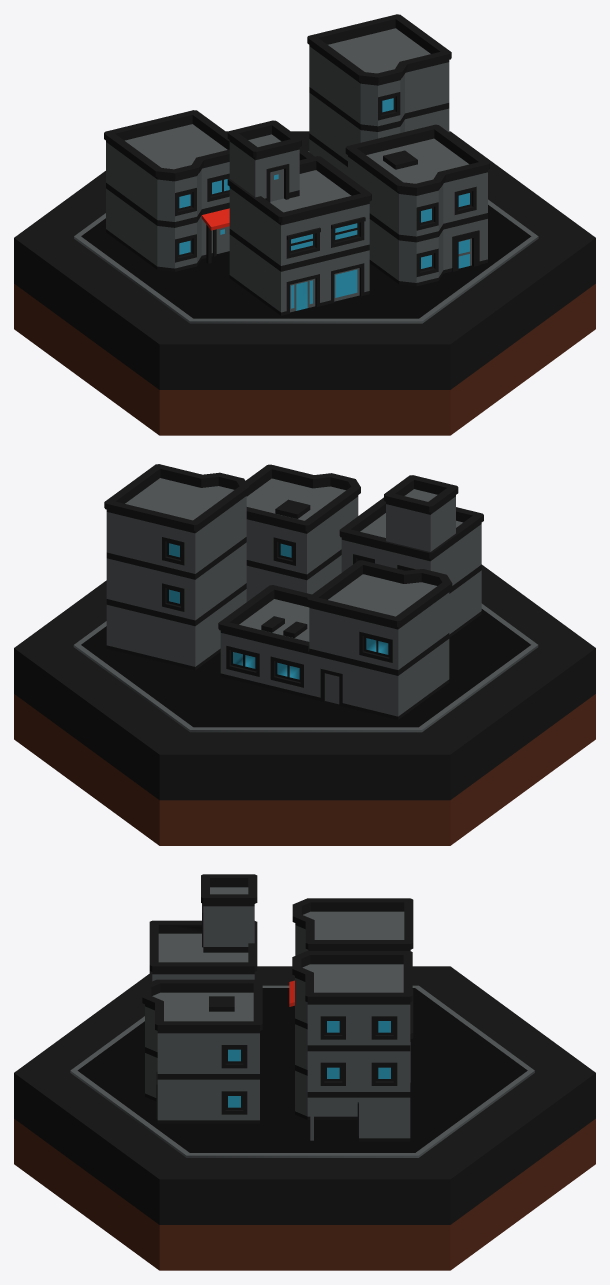
The model's file is SM_Buildings.FBX.
The picture shows the model from 3 angles, top to bottom: view 1: azimuth 30°, elevation 25°; view 2: azimuth 150°, elevation 25°; view 3: azimuth 270°, elevation 25°; orthographic projection.
Visible parts, largest first — view 1: SM_Buildings; view 2: SM_Buildings; view 3: SM_Buildings.
Part boxes in pixels (bbox=[...]): SM_Buildings: bbox=[14, 14, 595, 435]; SM_Buildings: bbox=[14, 464, 595, 845]; SM_Buildings: bbox=[14, 874, 595, 1270].
Bounding box in the file's own units: 100 × 115 × 52.51.
